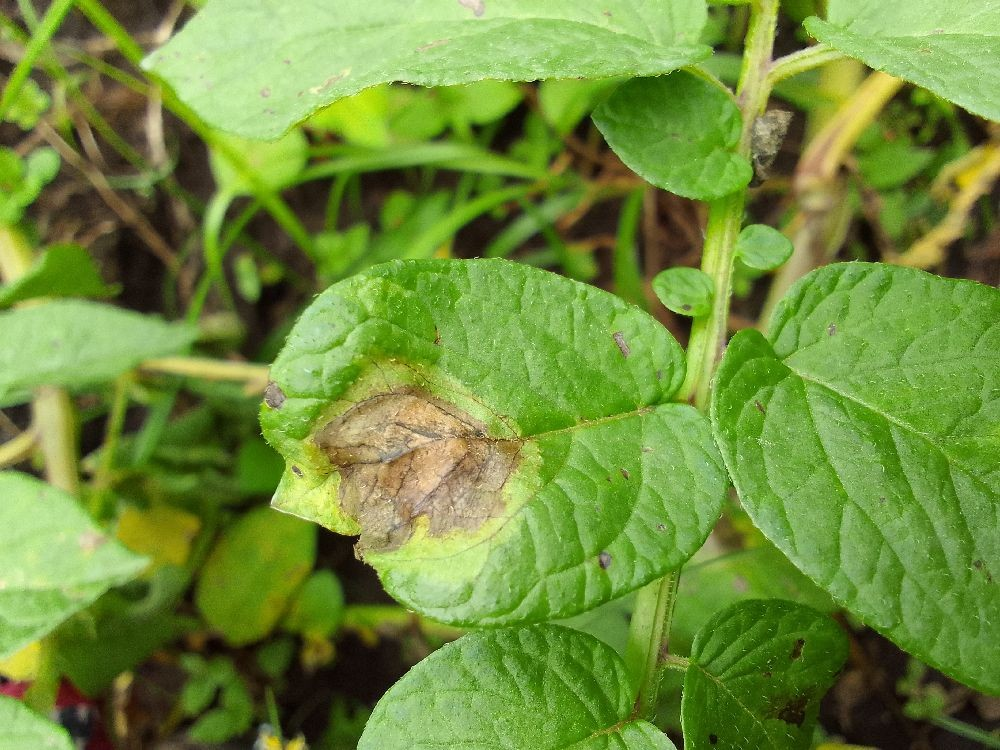late_blight: (0, 0, 475, 351), (681, 48, 1000, 394), (276, 359, 550, 635), (790, 589, 1000, 750)
